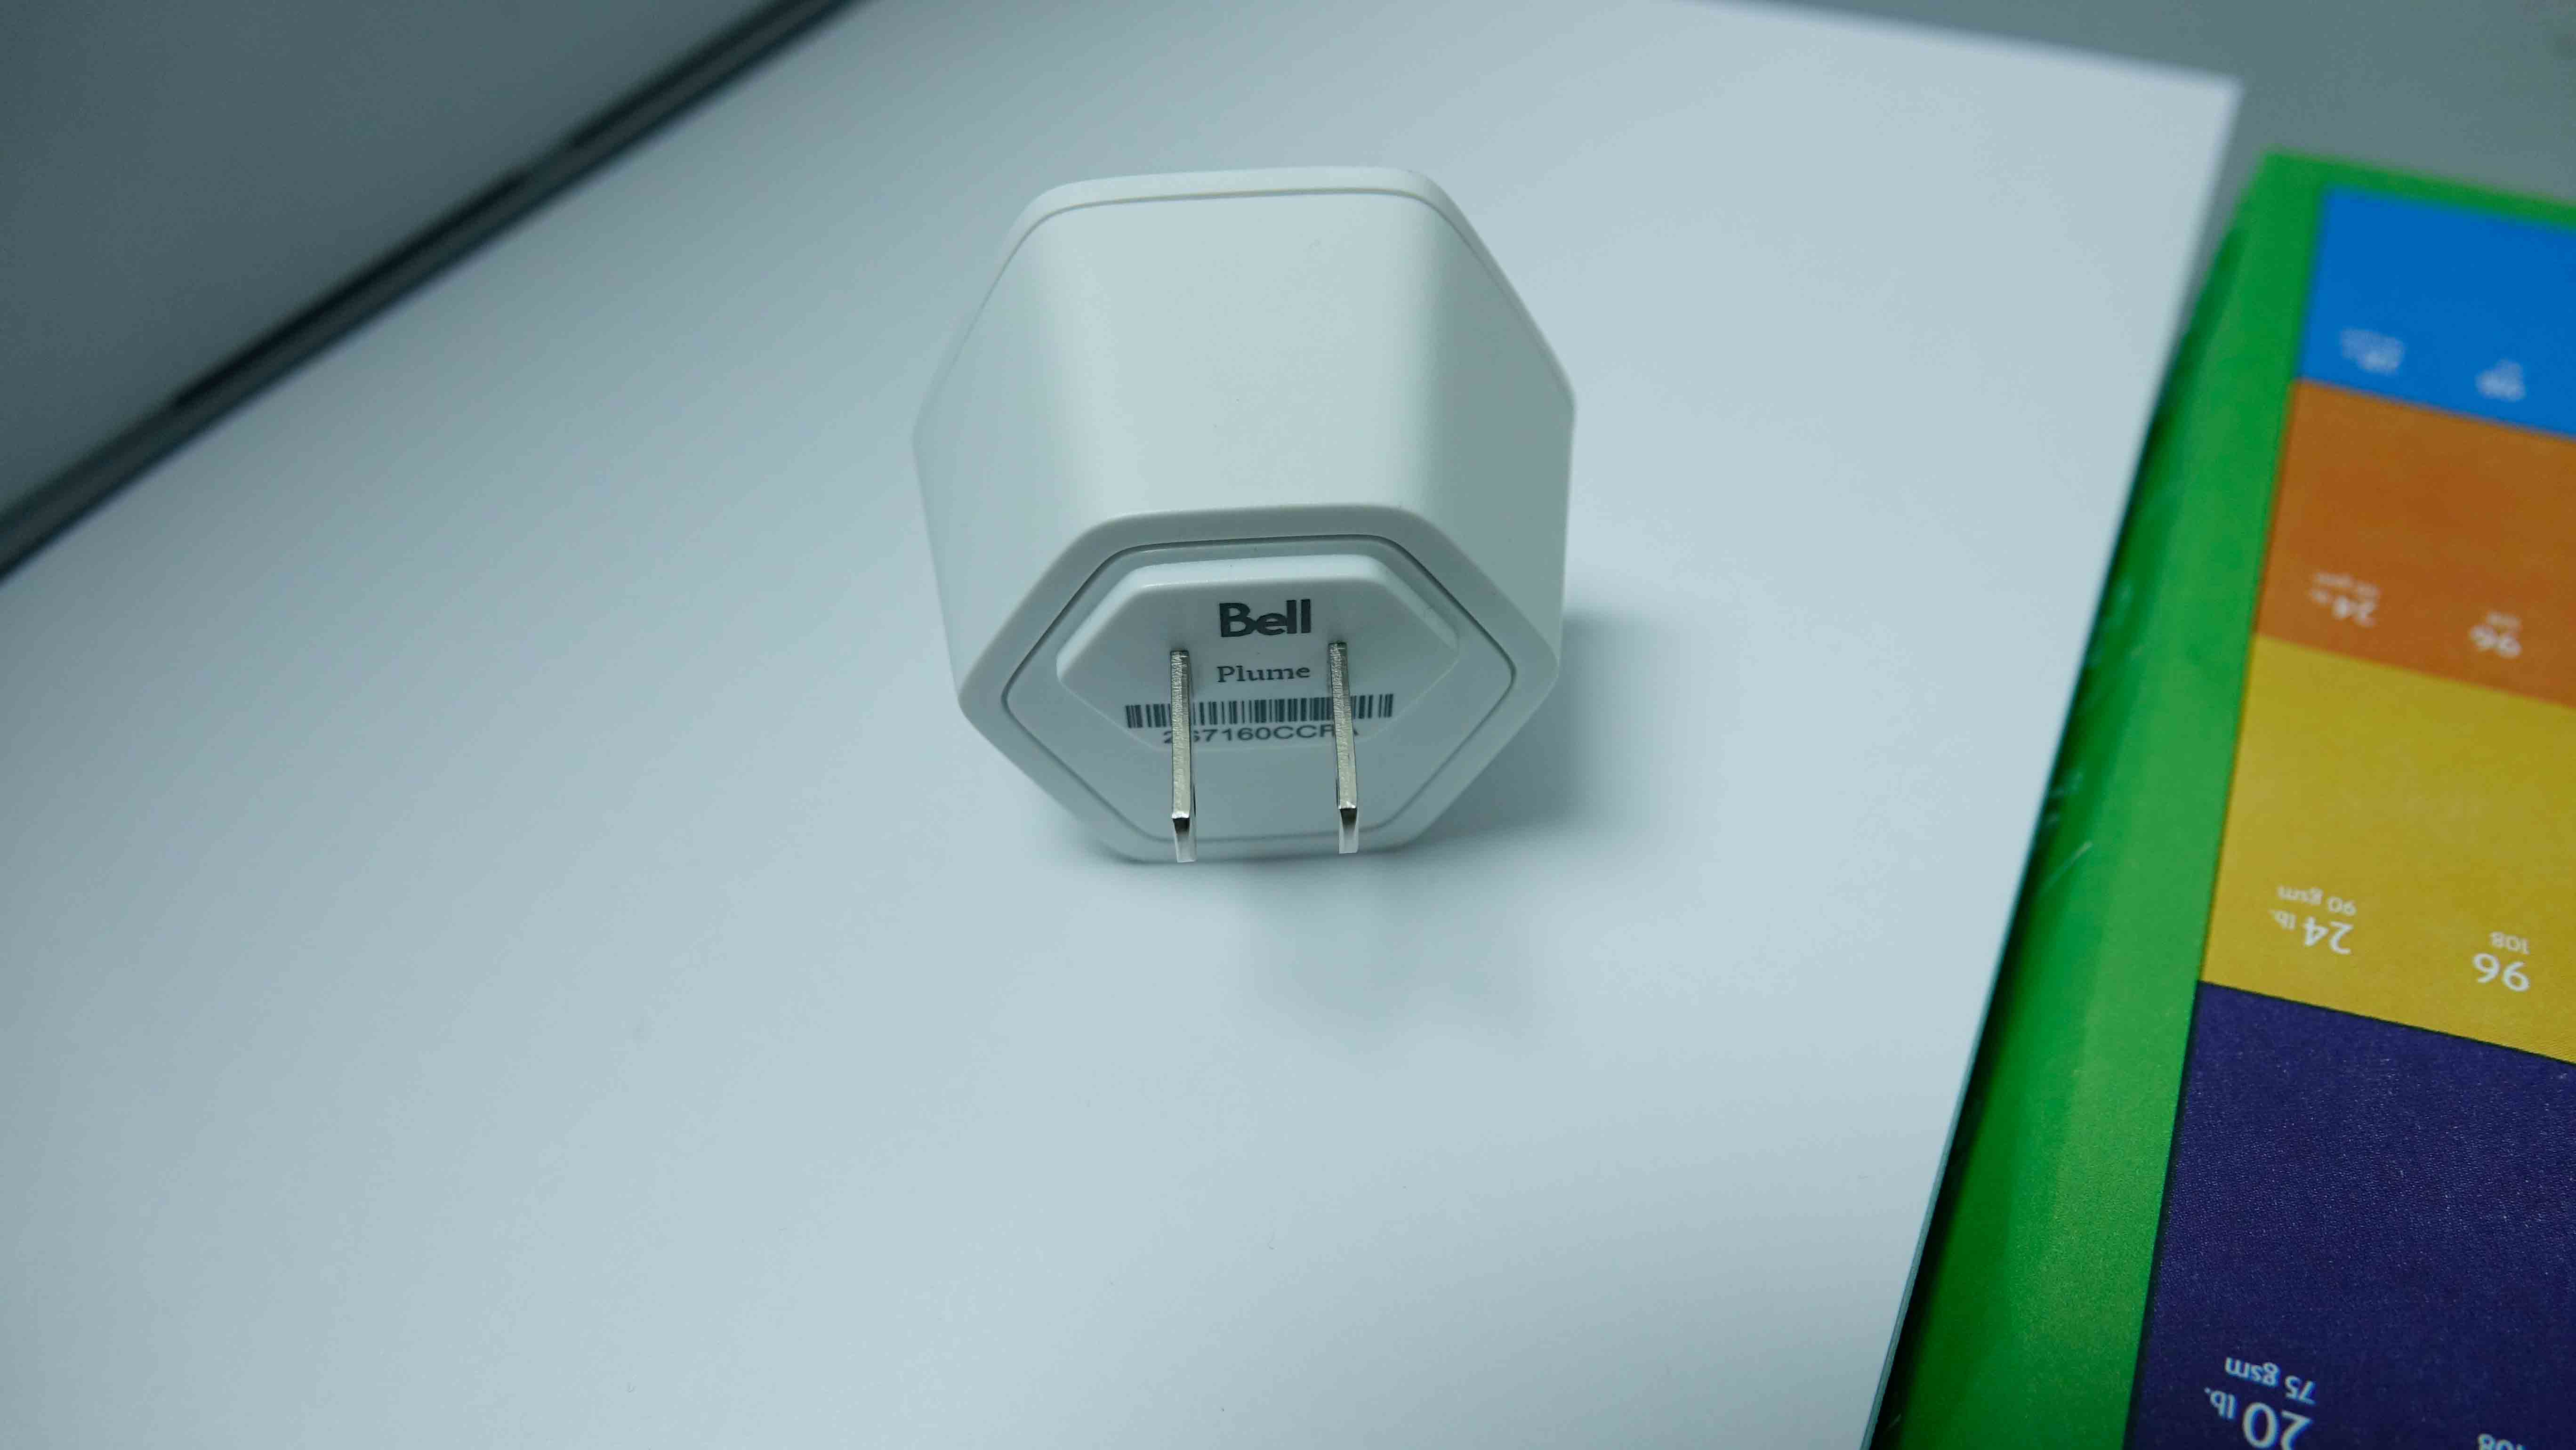pod: (890, 150, 1591, 893)
